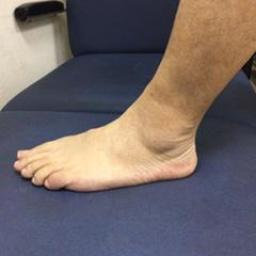Lateral View -Left Foot-: (8, 90, 220, 195)
